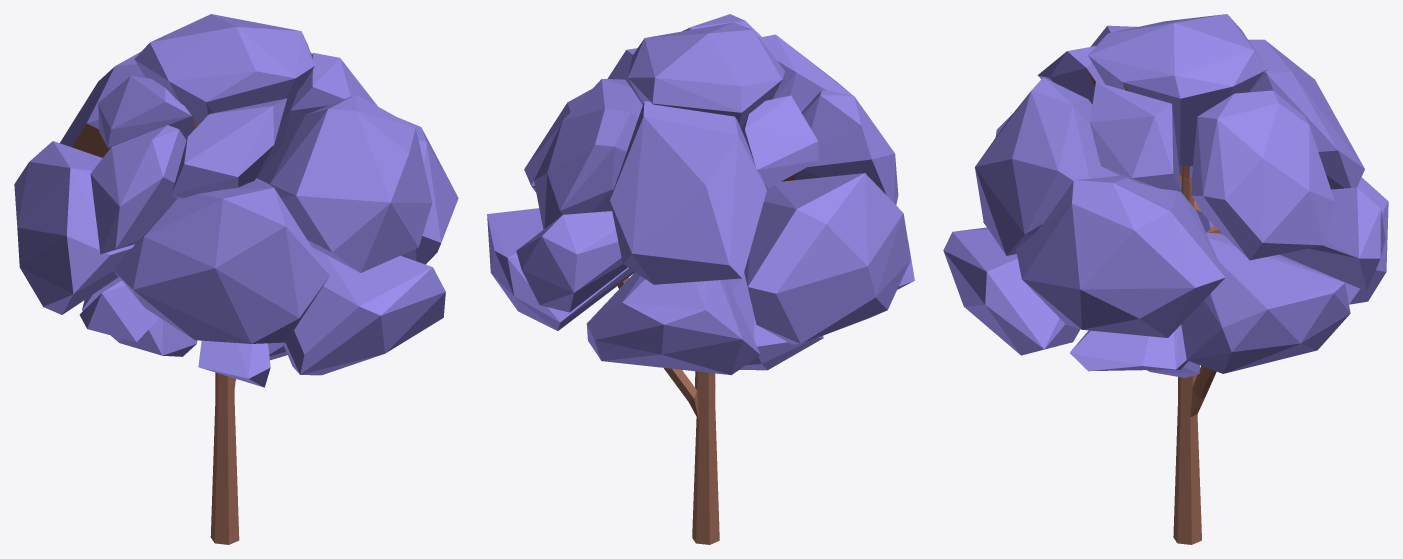
File: tree_P.fbx
3 renders of one model, left to right at view 1: azimuth 30°, elevation 25°; view 2: azimuth 150°, elevation 25°; view 3: azimuth 270°, elevation 25°, orthographic. The views are drawn at different scales.
Parts seen in each view (by area): view 1: Tree_Type0_06; view 2: Tree_Type0_06; view 3: Tree_Type0_06.
Part boxes in pixels (bbox=[...]): Tree_Type0_06: bbox=[14, 14, 458, 544]; Tree_Type0_06: bbox=[487, 14, 914, 544]; Tree_Type0_06: bbox=[943, 14, 1388, 544].
Size of the model in its own units: 378 by 489 by 381.
